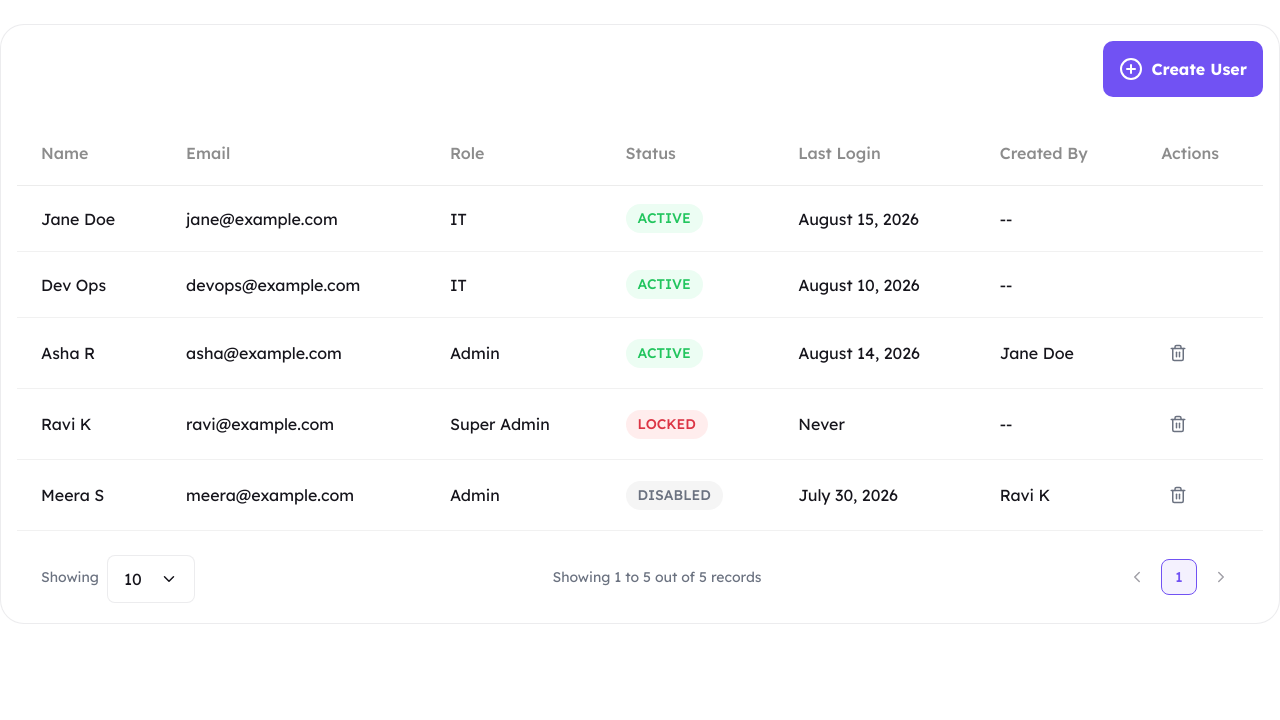
UsersDashboard › delete confirmation › asks before deleting, naming the account and what survives it
Click the button named "Delete ": (1178, 353) left=1161, top=336, right=1195, bottom=370
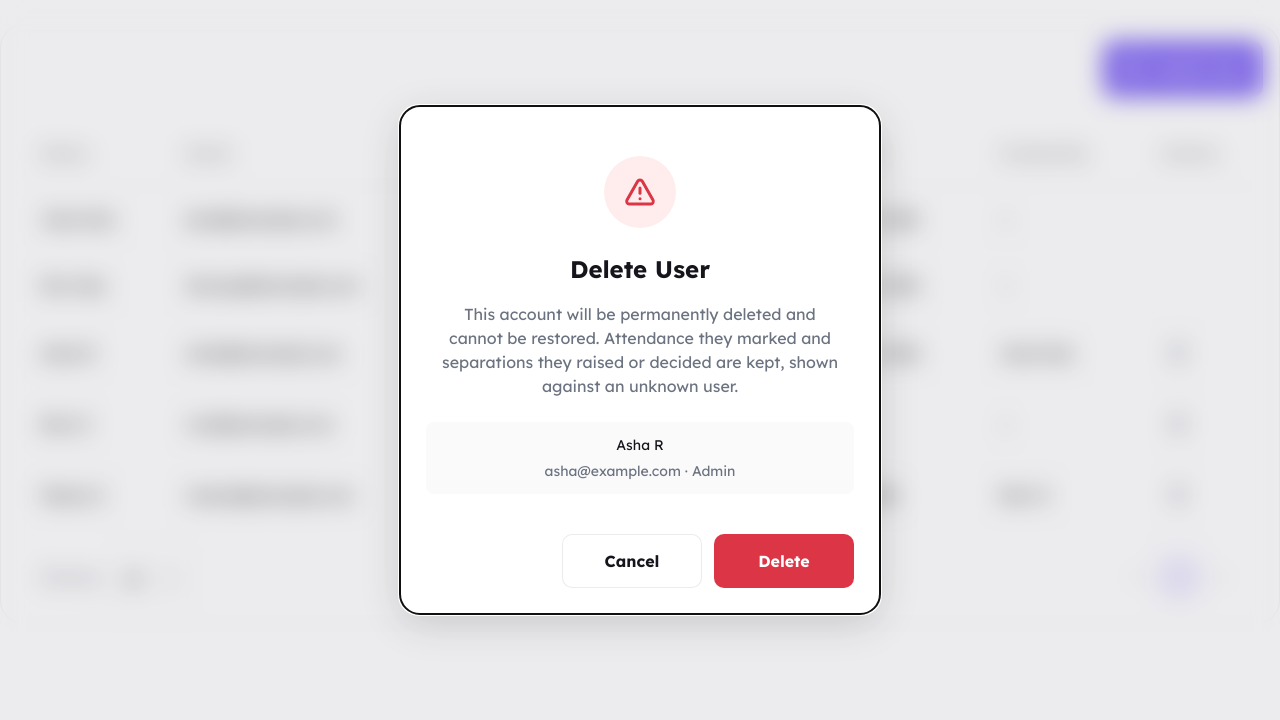
Now the heading "Delete User" is shown, box left=570, top=251, right=710, bottom=287
Now the text "This account will be permanently deleted and cannot be restored. Attendance they marked and separations they raised or d" is shown, box left=442, top=304, right=838, bottom=396
Now the text "Asha R" is shown, box left=616, top=434, right=664, bottom=456
